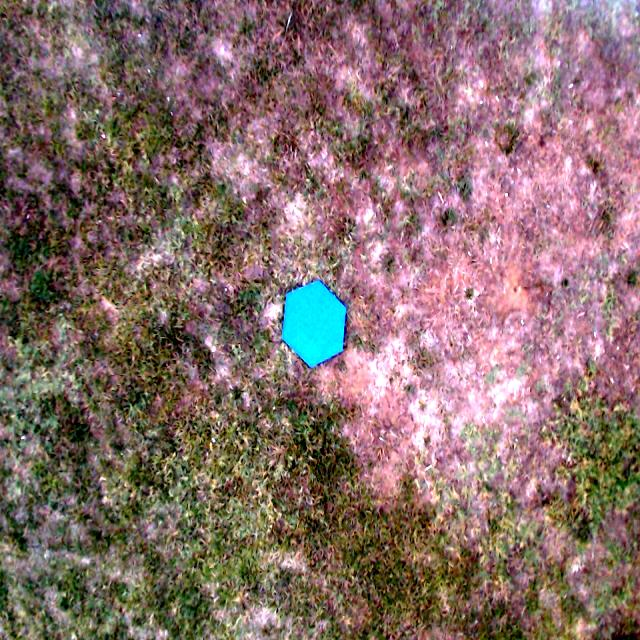blue_hexagon: (280, 278, 346, 370)
